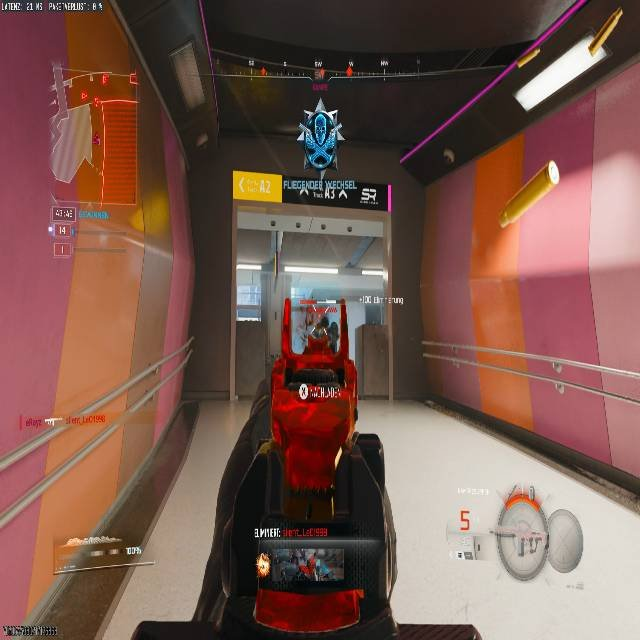head: (318, 315, 329, 328)
player: (295, 97, 346, 173), (303, 314, 333, 354)
